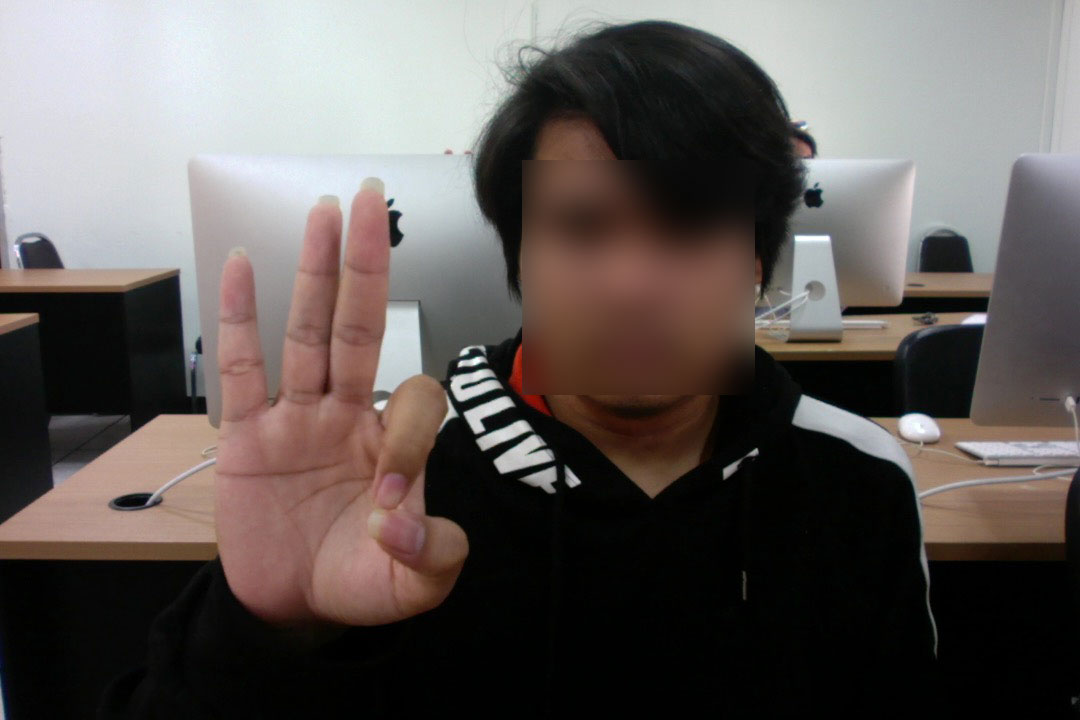for: (156, 157, 489, 691)
